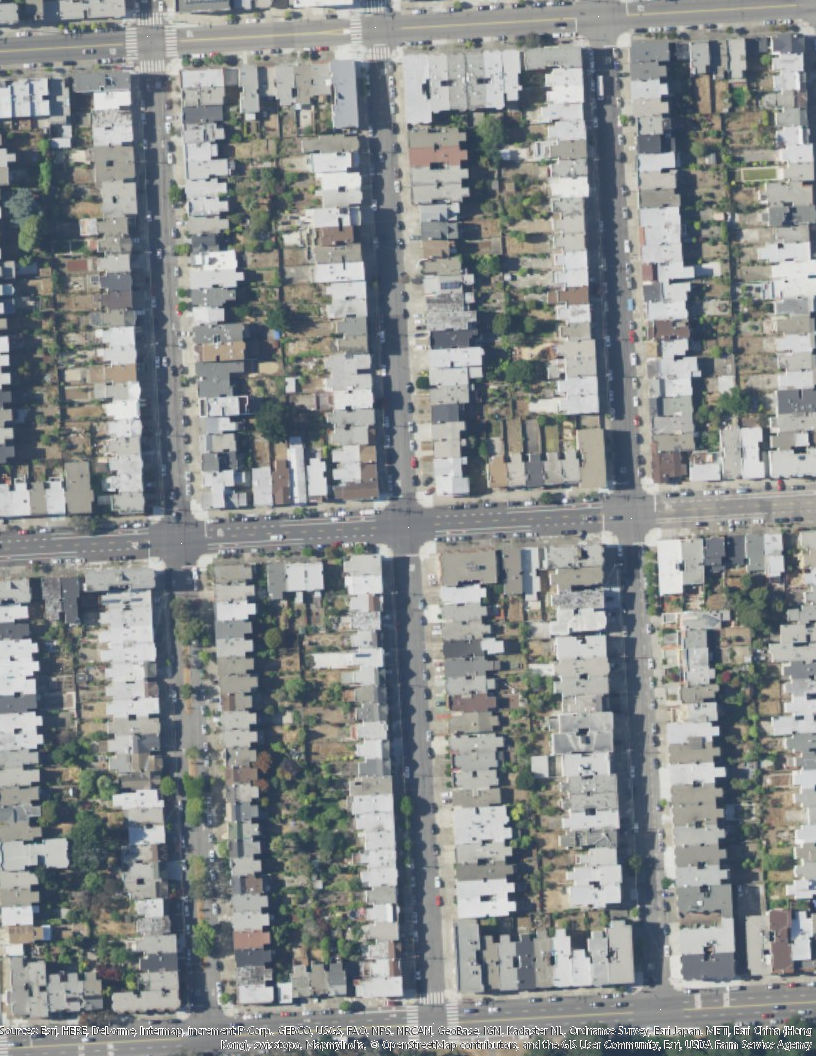zebracross: (445, 1000, 461, 1043), (124, 17, 138, 61), (405, 1004, 419, 1047), (162, 25, 180, 58), (132, 58, 170, 72), (135, 12, 166, 27), (417, 990, 446, 1006), (350, 14, 363, 42), (362, 1, 387, 15), (371, 45, 393, 57)
